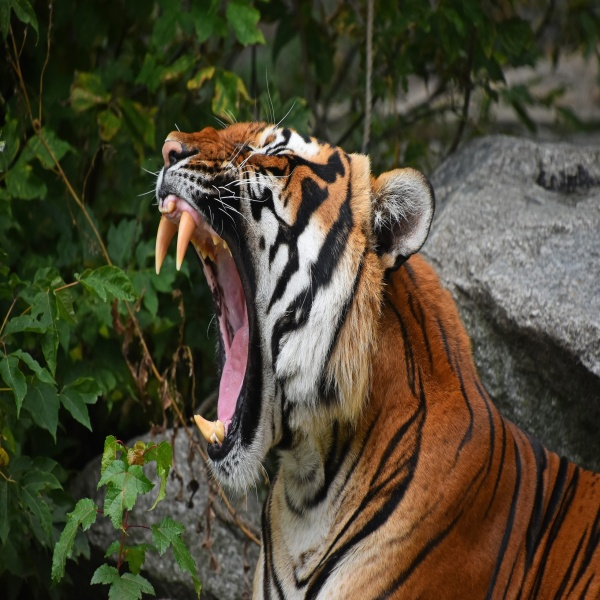Tiger: (145, 116, 600, 599)
